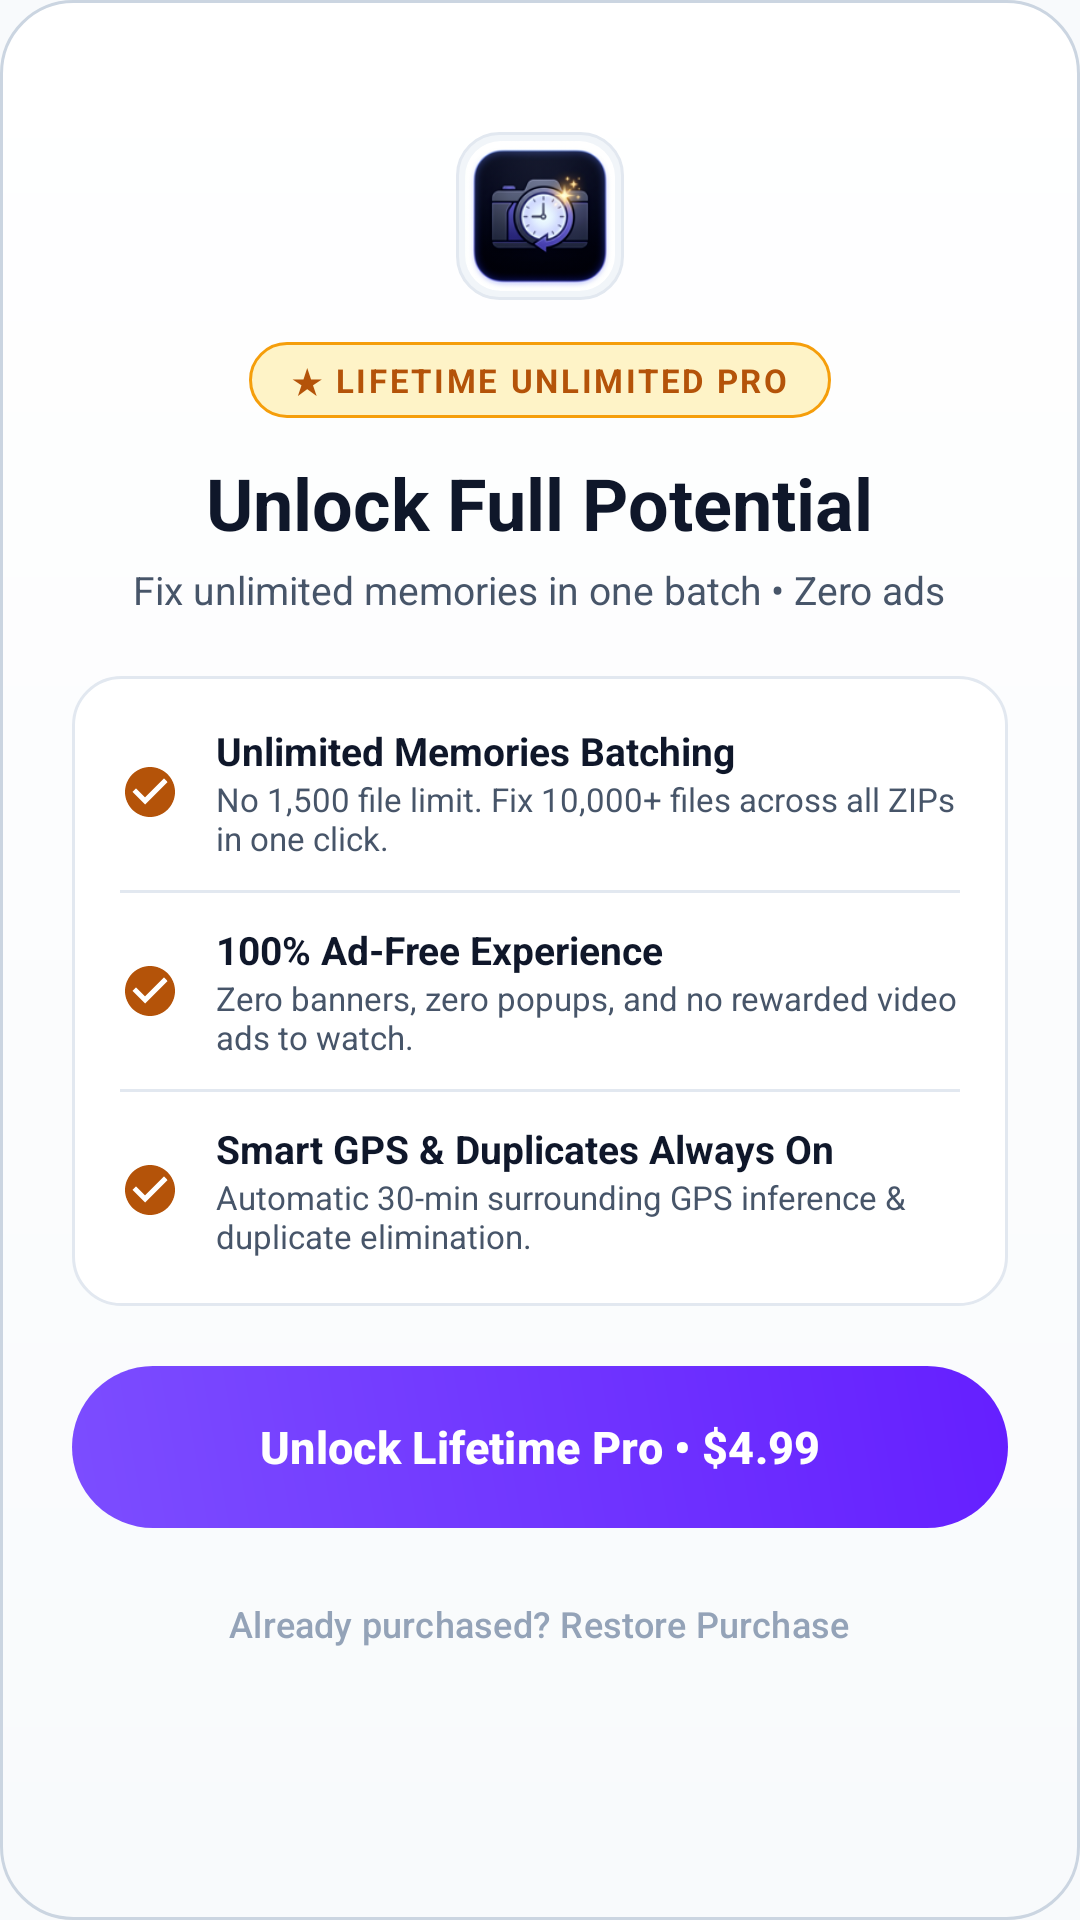

Icons on this 1080×1920 Android screen, each with its box as [x1, y1, x2, y2]:
check circle: [125, 767, 175, 817], [125, 966, 175, 1016], [125, 1165, 175, 1215]
